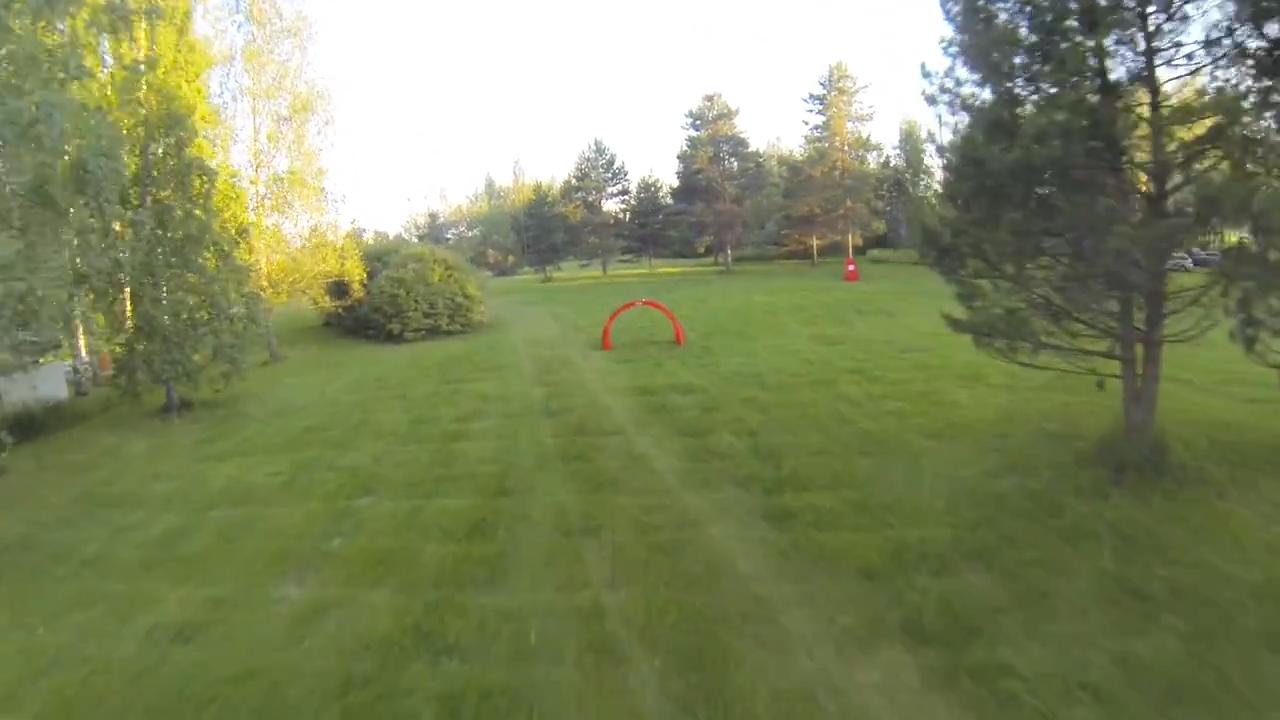gate: (597, 297, 688, 350)
